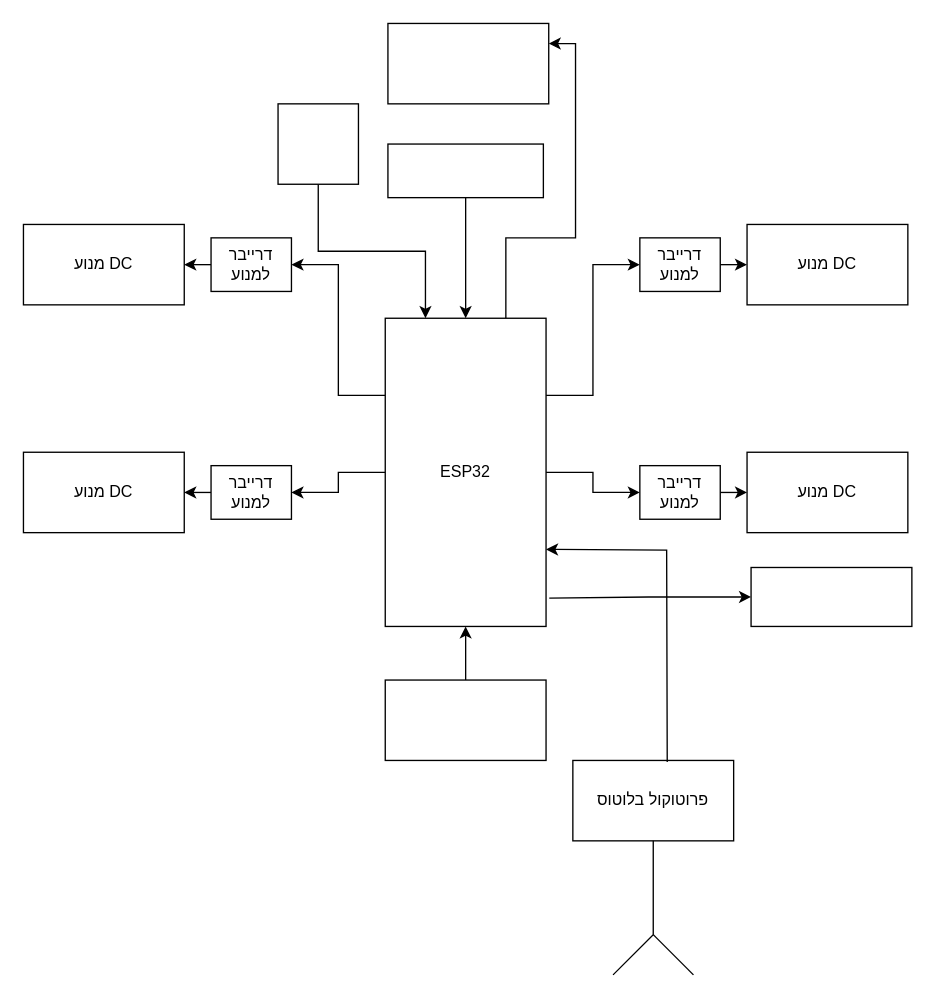
Some shapes in this 935 by 1000 pixel diagram are drawn without their labels. Here are the shapes that lost their labels. From the top down, the centre of each, then its label:
point (468, 63): פנסים קדמיים (לדים)
point (317, 143): infra red חיישן מרחק
point (465, 170): חיישן פס
point (831, 596): תצוגת מסך OLED
point (465, 719): נורת LDR
